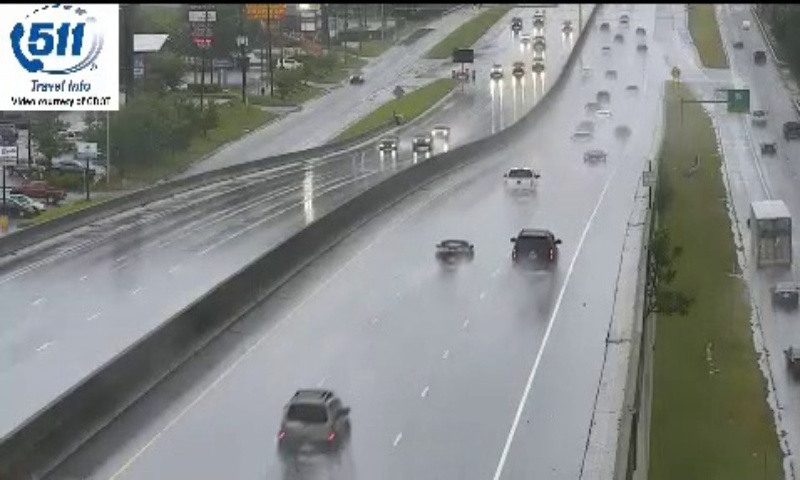car: (277, 390, 349, 457), (512, 228, 558, 270), (436, 238, 473, 266), (503, 167, 538, 196)
